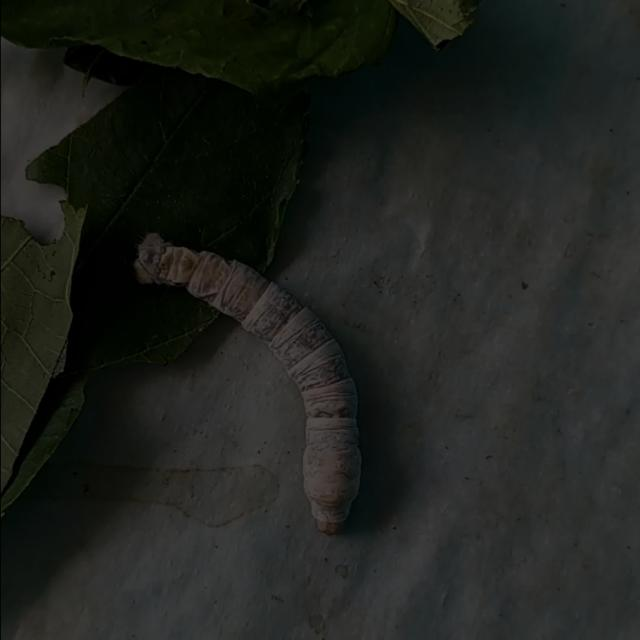Grasserie: (119, 219, 374, 536)
